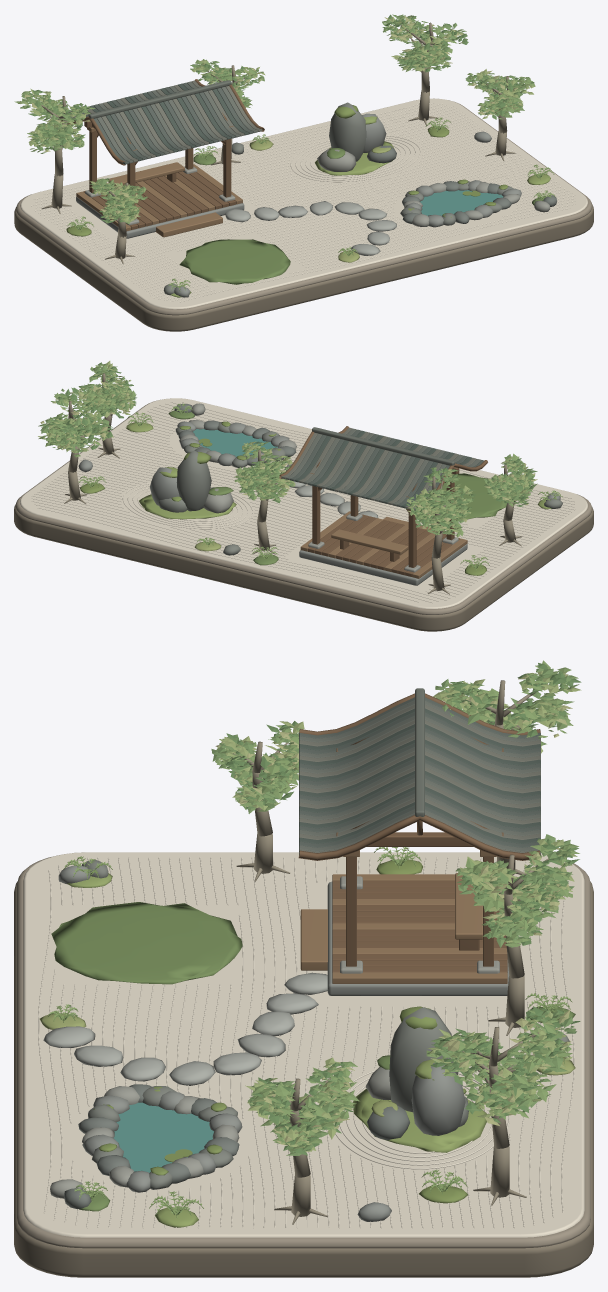
File: garden.glb
3 renders of one model, top to bottom at view 1: azimuth 30°, elevation 25°; view 2: azimuth 150°, elevation 25°; view 3: azimuth 270°, elevation 25°, orthographic. The views are drawn at different scales.
Parts seen in each view (by area): view 1: GardenSand, Garden_Fine_warm_sand_ridges, Perimeter, GardenEarthBase, Pavilion, Pavilion_Aged_cedar_timber, GardenEarthRim, BambooMossClearing, Pond, Pavilion_Worn_cedar_end_grain, Perimeter_Weathered_silver_brown_bark, Journey_Honed_gray_stepping_stones (+7 smaller); view 2: GardenSand, Perimeter, GardenEarthBase, Garden_Fine_warm_sand_ridges, Pavilion, Pavilion_Aged_cedar_timber, GardenEarthRim, Projects, Perimeter_Weathered_silver_brown_bark, Pond, Pavilion_Worn_cedar_end_grain, BambooMossClearing (+7 smaller); view 3: GardenSand, Perimeter, Pavilion, GardenEarthBase, Pavilion_Aged_cedar_timber, Garden_Fine_warm_sand_ridges, BambooMossClearing, GardenEarthRim, Pond, Pavilion_Worn_cedar_end_grain, Perimeter_Weathered_silver_brown_bark, Journey_Honed_gray_stepping_stones (+7 smaller).
Boxes of the visible parts, x1,y1,x2,y2 form: GardenSand: [20, 98, 587, 309]; Garden_Fine_warm_sand_ridges: [31, 103, 575, 302]; Perimeter: [14, 14, 550, 297]; GardenEarthBase: [14, 204, 593, 331]; Pavilion: [68, 80, 262, 225]; Pavilion_Aged_cedar_timber: [61, 79, 264, 229]; GardenEarthRim: [16, 100, 592, 315]; BambooMossClearing: [179, 239, 290, 284]; Pond: [400, 179, 521, 227]; Pavilion_Worn_cedar_end_grain: [76, 127, 242, 237]; Perimeter_Weathered_silver_brown_bark: [41, 22, 515, 264]; Journey_Honed_gray_stepping_stones: [225, 201, 396, 255]; GardenSand: [20, 398, 587, 608]; Perimeter: [38, 361, 562, 575]; GardenEarthBase: [14, 504, 593, 631]; Garden_Fine_warm_sand_ridges: [31, 402, 574, 602]; Pavilion: [281, 427, 484, 572]; Pavilion_Aged_cedar_timber: [279, 426, 487, 576]; GardenEarthRim: [15, 401, 592, 614]; Projects: [139, 450, 236, 519]; Perimeter_Weathered_silver_brown_bark: [64, 373, 522, 594]; Pond: [175, 419, 296, 467]; Pavilion_Worn_cedar_end_grain: [300, 476, 467, 578]; BambooMossClearing: [437, 473, 506, 519]; GardenSand: [23, 852, 584, 1237]; Perimeter: [39, 660, 581, 1227]; Pavilion: [299, 688, 540, 973]; GardenEarthBase: [14, 881, 593, 1277]; Pavilion_Aged_cedar_timber: [298, 693, 540, 972]; Garden_Fine_warm_sand_ridges: [38, 857, 574, 1227]; BambooMossClearing: [51, 902, 242, 984]; GardenEarthRim: [17, 857, 590, 1248]; Pond: [78, 1084, 242, 1192]; Pavilion_Worn_cedar_end_grain: [300, 850, 507, 983]; Perimeter_Weathered_silver_brown_bark: [233, 680, 548, 1224]; Journey_Honed_gray_stepping_stones: [43, 972, 327, 1085].
Bounding box in the file's own units: 16 × 4.57 × 10.
